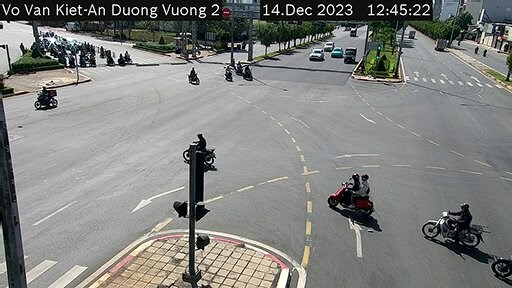car: (307, 46, 323, 65), (330, 46, 344, 65), (320, 37, 334, 52)
motorbike: (425, 197, 499, 249), (323, 167, 378, 221), (487, 240, 512, 279), (183, 62, 207, 93), (30, 89, 58, 107), (220, 64, 235, 86), (237, 65, 258, 80), (232, 58, 242, 76)
truck: (339, 43, 356, 67)
